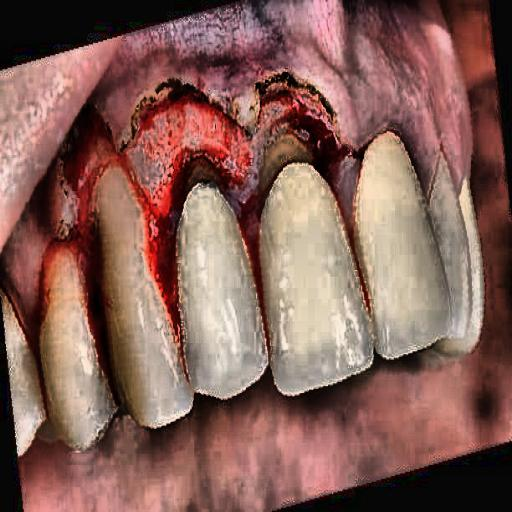Gingivitis: (36, 38, 359, 274)
